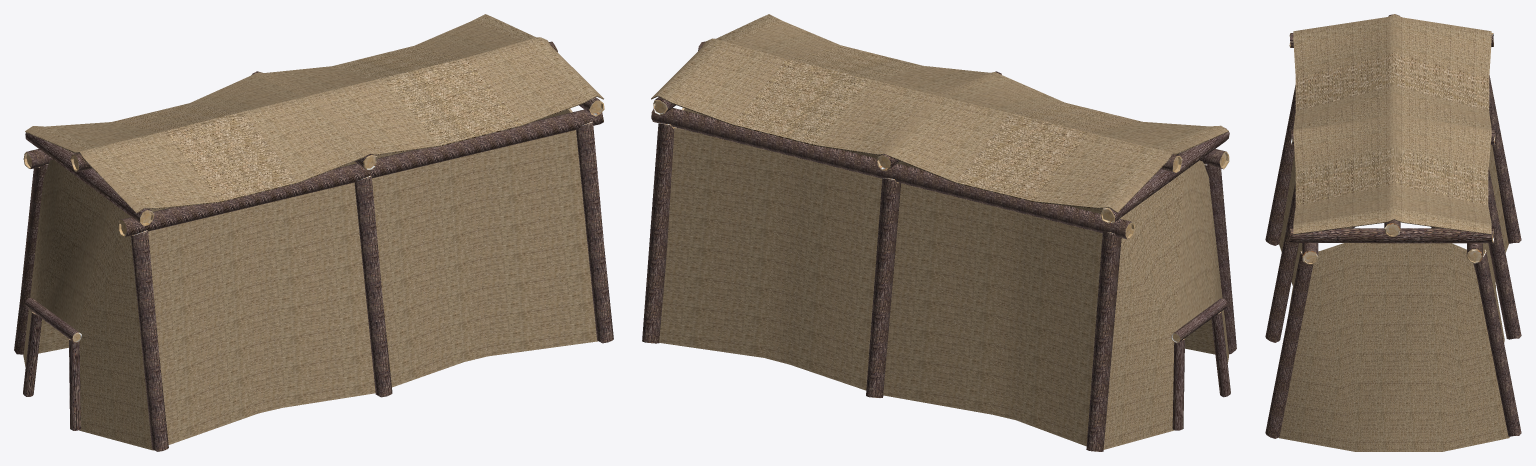
The model's file is town_hall.FBX.
3 renders of one model, left to right at view 1: azimuth 30°, elevation 25°; view 2: azimuth 150°, elevation 25°; view 3: azimuth 270°, elevation 25°, orthographic. The views are drawn at different scales.
Visible parts, largest first — view 1: Box001, roof, Cylinder042, Cylinder027, Cylinder028, Cylinder029, Cylinder033, Cylinder037, Cylinder039, Cylinder040, Cylinder041; view 2: Box001, roof, Cylinder031, Cylinder032, Cylinder033, Cylinder030, Cylinder028, Cylinder037, Cylinder040, Cylinder039, Cylinder041; view 3: Box001, roof, Cylinder029, Cylinder035, Cylinder030, Cylinder032, Cylinder027, Cylinder028, Cylinder033, Cylinder042, Cylinder031.
Part boxes in pixels (x1,y1,x2,y2): Box001: (23,108,597,450); roof: (25,14,603,213); Cylinder042: (118,109,603,237); Cylinder027: (354,175,392,397); Cylinder028: (130,230,168,451); Cylinder029: (576,122,613,343); Cylinder033: (14,164,48,354); Cylinder037: (25,132,154,226); Cylinder039: (69,339,80,430); Cylinder040: (23,312,41,396); Cylinder041: (25,298,81,342); Box001: (659,107,1228,449); roof: (651,14,1228,212); Cylinder031: (651,108,1135,239); Cylinder032: (866,178,900,397); Cylinder033: (1086,232,1121,451); Cylinder030: (642,123,676,343); Cylinder028: (1204,164,1236,354); Cylinder037: (1100,127,1229,222); Cylinder040: (1172,338,1184,430); Cylinder039: (1211,311,1230,397); Cylinder041: (1171,298,1227,343); Box001: (1278,145,1509,451); roof: (1293,14,1491,234); Cylinder029: (1265,251,1313,438); Cylinder035: (1289,228,1493,243); Cylinder030: (1473,249,1521,436); Cylinder032: (1488,167,1521,339); Cylinder027: (1265,182,1298,342); Cylinder028: (1265,85,1295,245); Cylinder033: (1489,75,1521,243); Cylinder042: (1302,243,1318,264); Cylinder031: (1466,243,1482,263).
Size of the model in its own units: 51.36 by 24.45 by 24.04.
